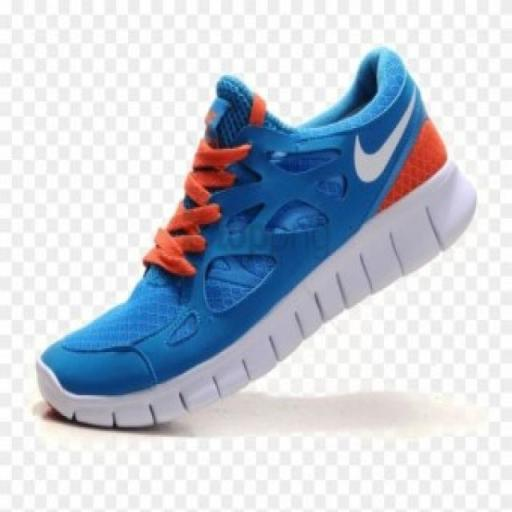Nike: (343, 84, 422, 188)
